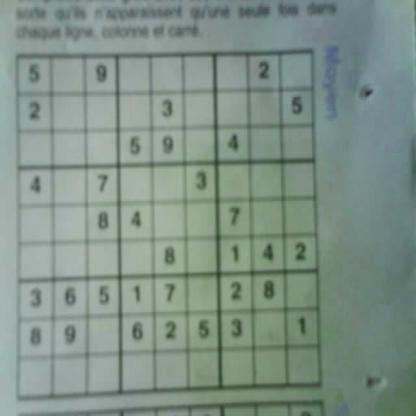sudoku: (13, 45, 326, 405)
